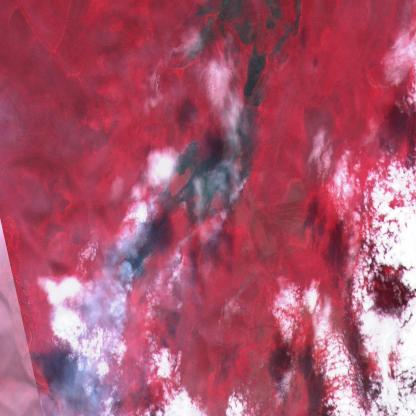fire: (124, 129, 268, 282)
